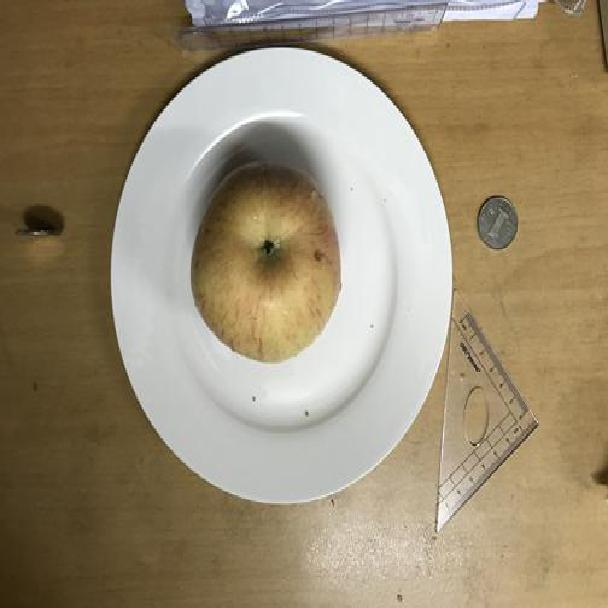apple: (191, 164, 347, 370)
